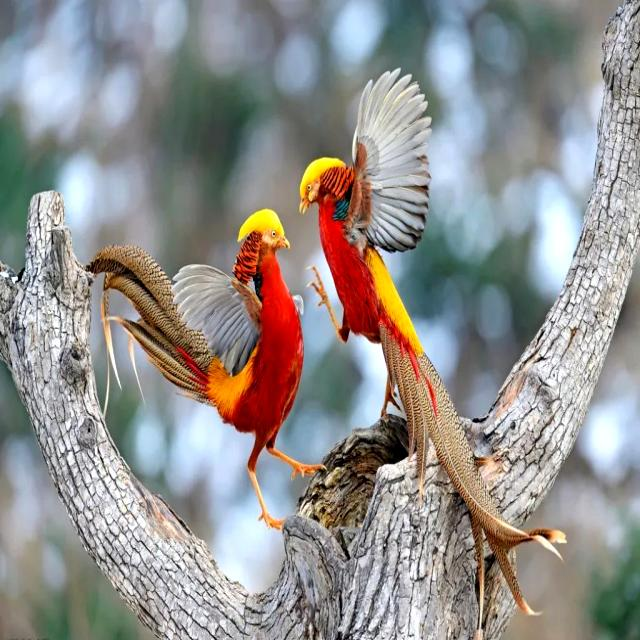Chrysolophus pictus feather: (381, 329, 565, 618), (87, 246, 213, 403)
